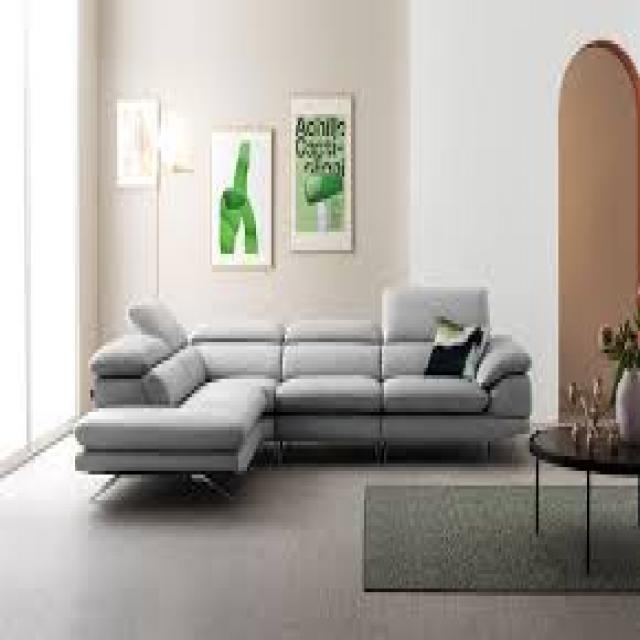Sofa: (76, 277, 545, 510)
